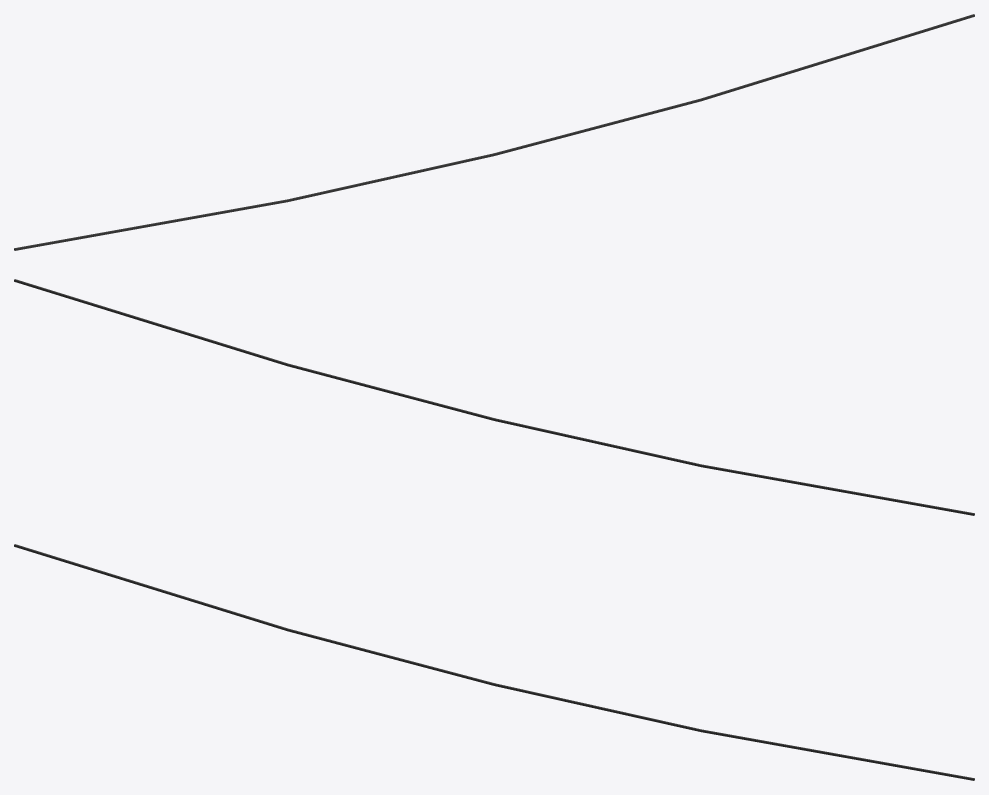
The model's file is PowerLines_02.glb.
3 views of the same model, one above another, from view 1: azimuth 30°, elevation 25°; view 2: azimuth 150°, elevation 25°; view 3: azimuth 330°, elevation 25° (orthographic).
Parts seen in each view (by area): view 1: PowerLines_02; view 2: PowerLines_02; view 3: PowerLines_02.
Part boxes in pixels (left/top/right/bottom): PowerLines_02: left=14, top=14, right=974, bottom=250; PowerLines_02: left=14, top=279, right=974, bottom=515; PowerLines_02: left=14, top=544, right=974, bottom=780.
Size of the model in its own units: 7.98 by 0.1907 by 0.015.
Materials: 1 (1 with a texture image).
